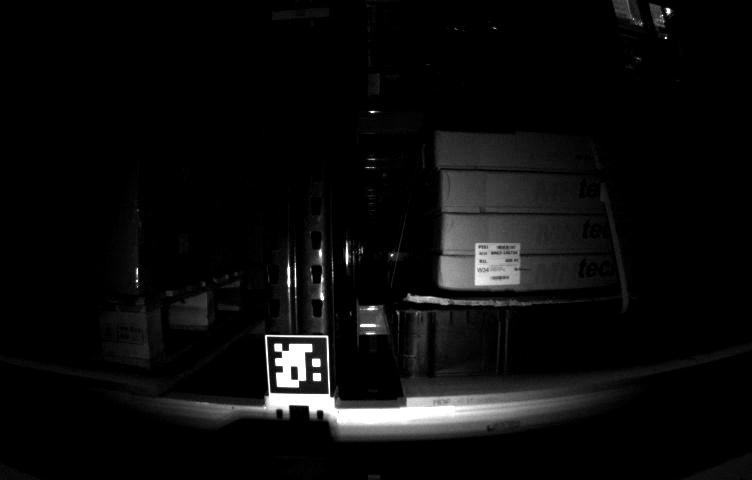True Barcode: (469, 240, 525, 290)
